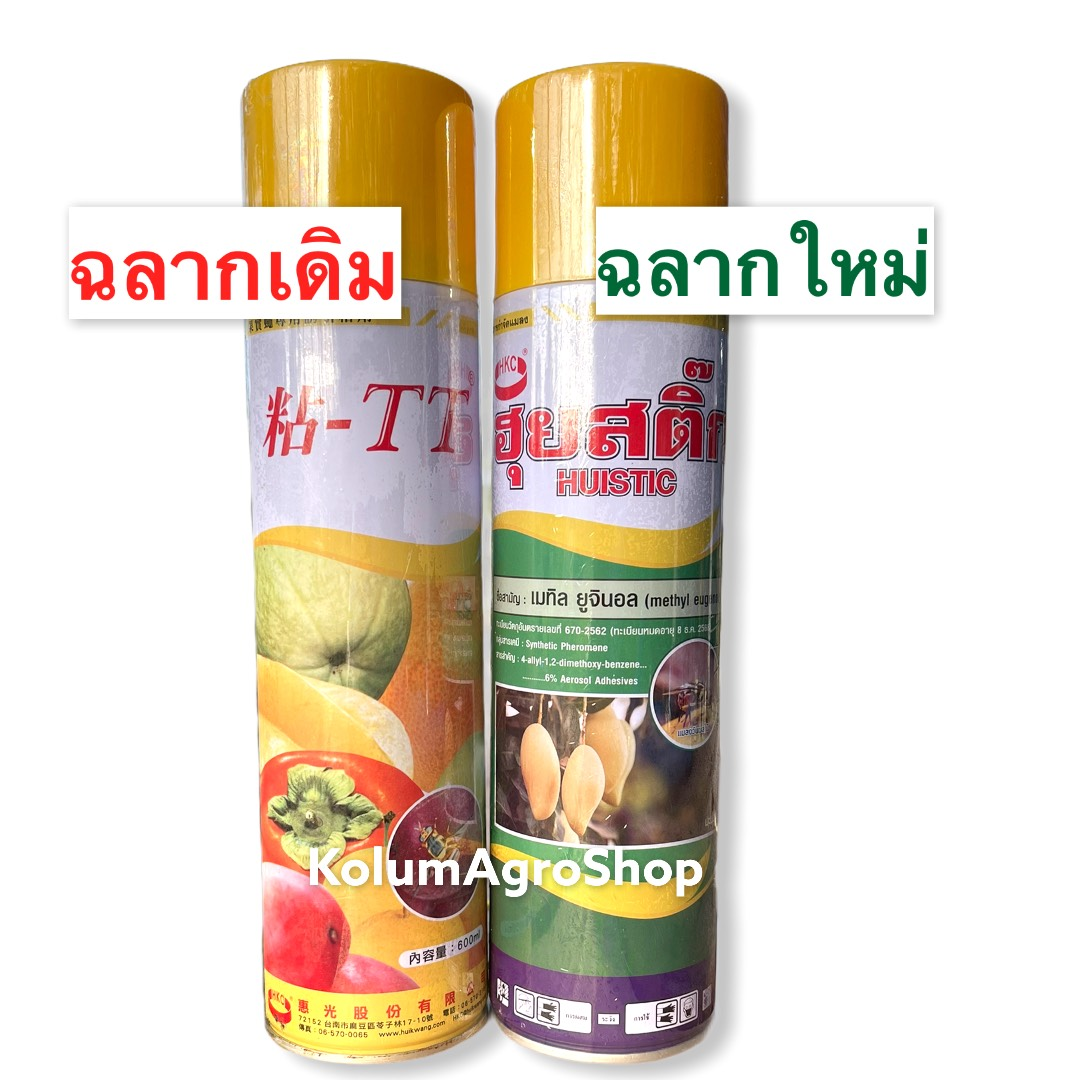Aerosol_cans: (236, 57, 495, 1072), (485, 62, 735, 1071)
